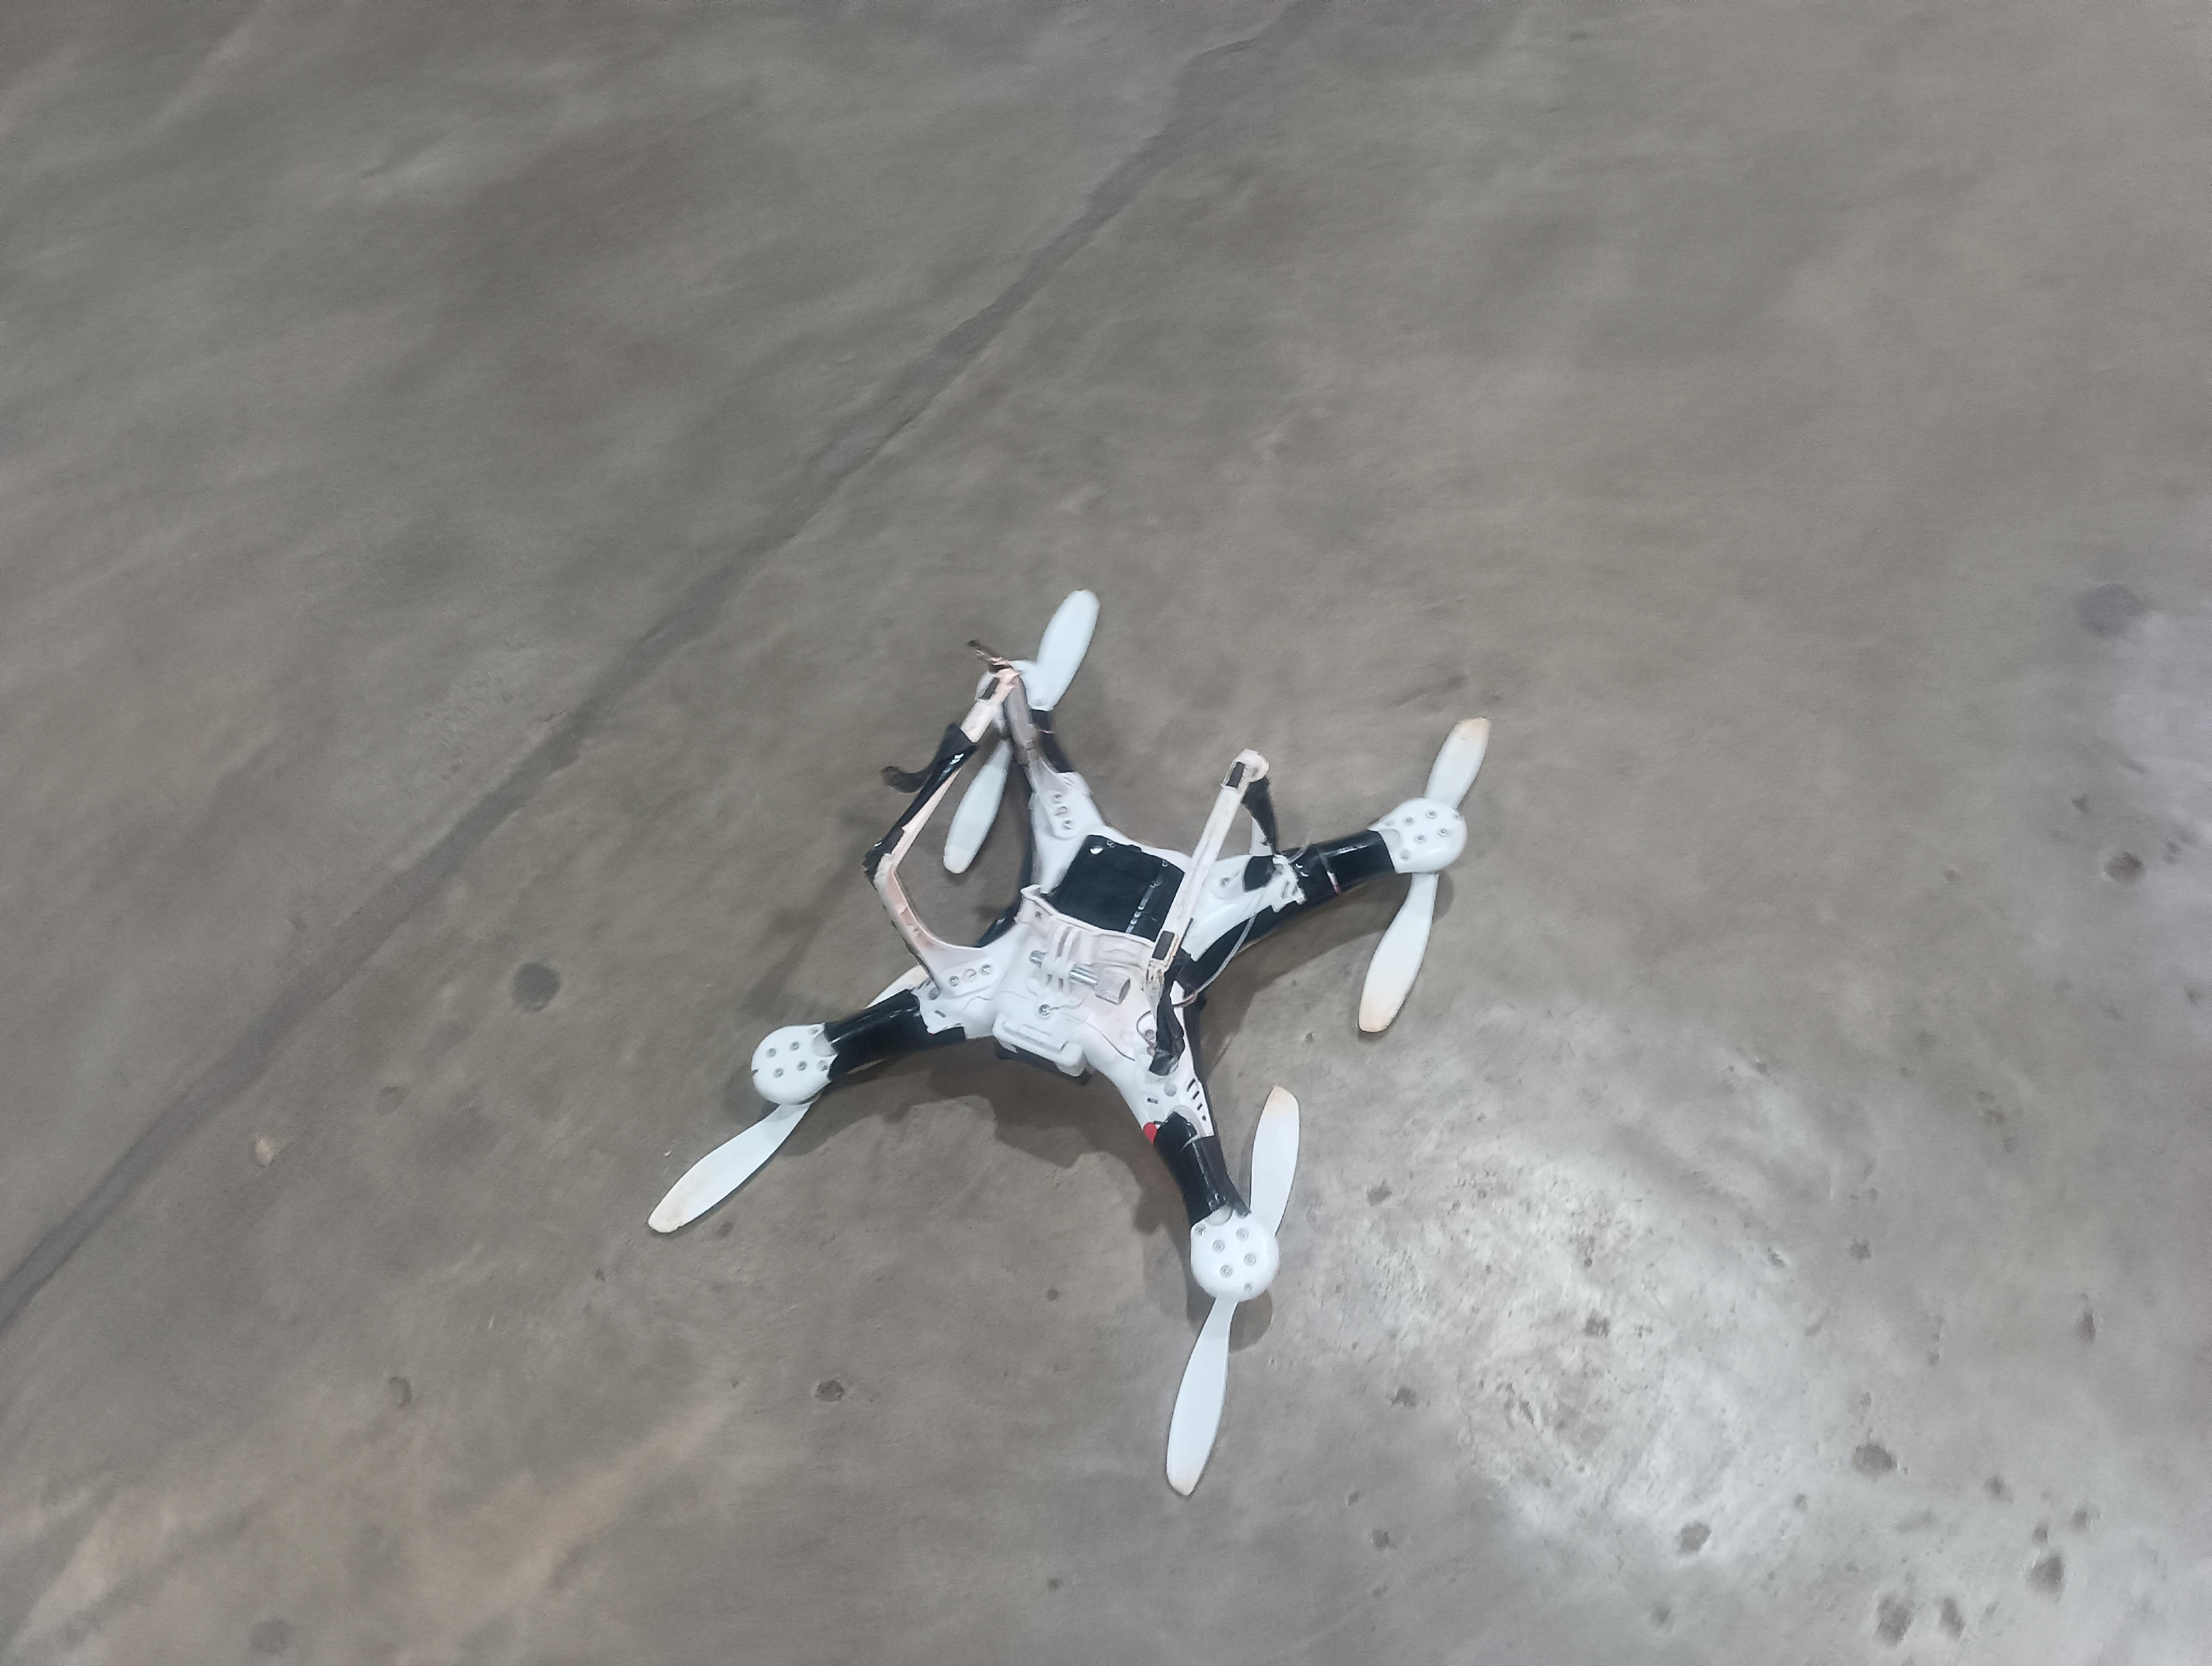drone: (598, 532, 1534, 1498)
